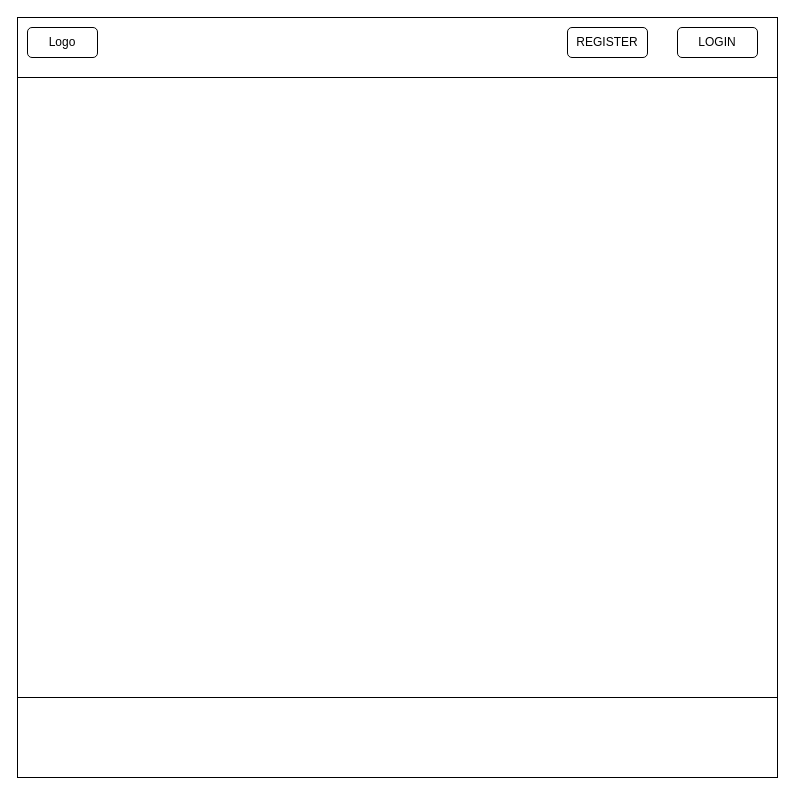
This 795x795 diagram has some shape labels left out. Each missing label, with the box of its shape:
FOOTER: (16, 696, 778, 778)
HOME ABOUT CONTACTS: (16, 16, 778, 78)
